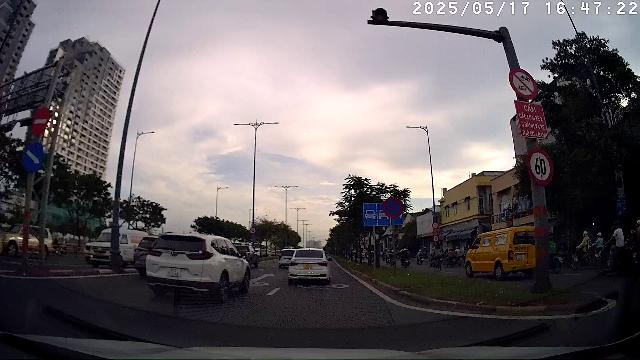127-toc-do-toi-da-60: (526, 147, 554, 185)
